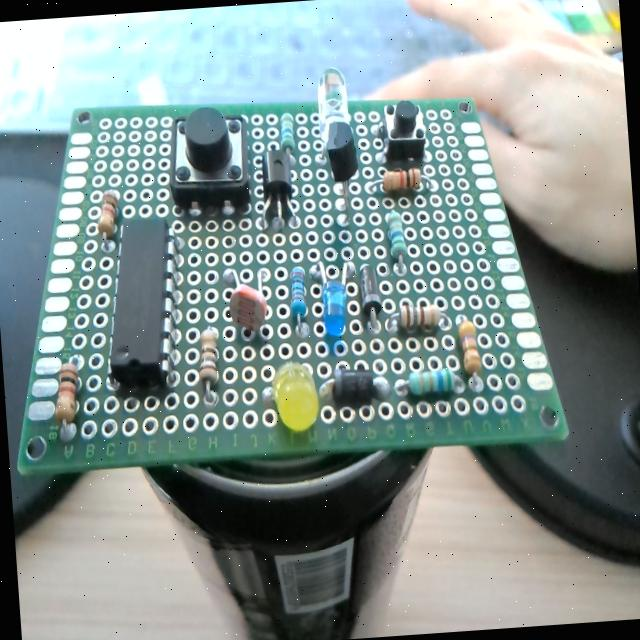IC: (97, 210, 181, 390)
cds: (224, 268, 268, 338)
diode: (322, 363, 389, 406), (358, 263, 382, 322)
led: (260, 358, 324, 434), (307, 66, 356, 134), (313, 258, 352, 338)
resistor: (194, 328, 222, 404), (52, 360, 80, 426), (392, 300, 446, 334), (384, 205, 408, 274), (406, 366, 455, 396), (456, 317, 481, 373), (287, 265, 308, 322), (96, 188, 120, 237), (382, 166, 421, 192), (279, 112, 296, 154)
switch: (164, 106, 252, 216), (380, 97, 427, 164)
transistor: (323, 123, 362, 223), (257, 146, 299, 232)
